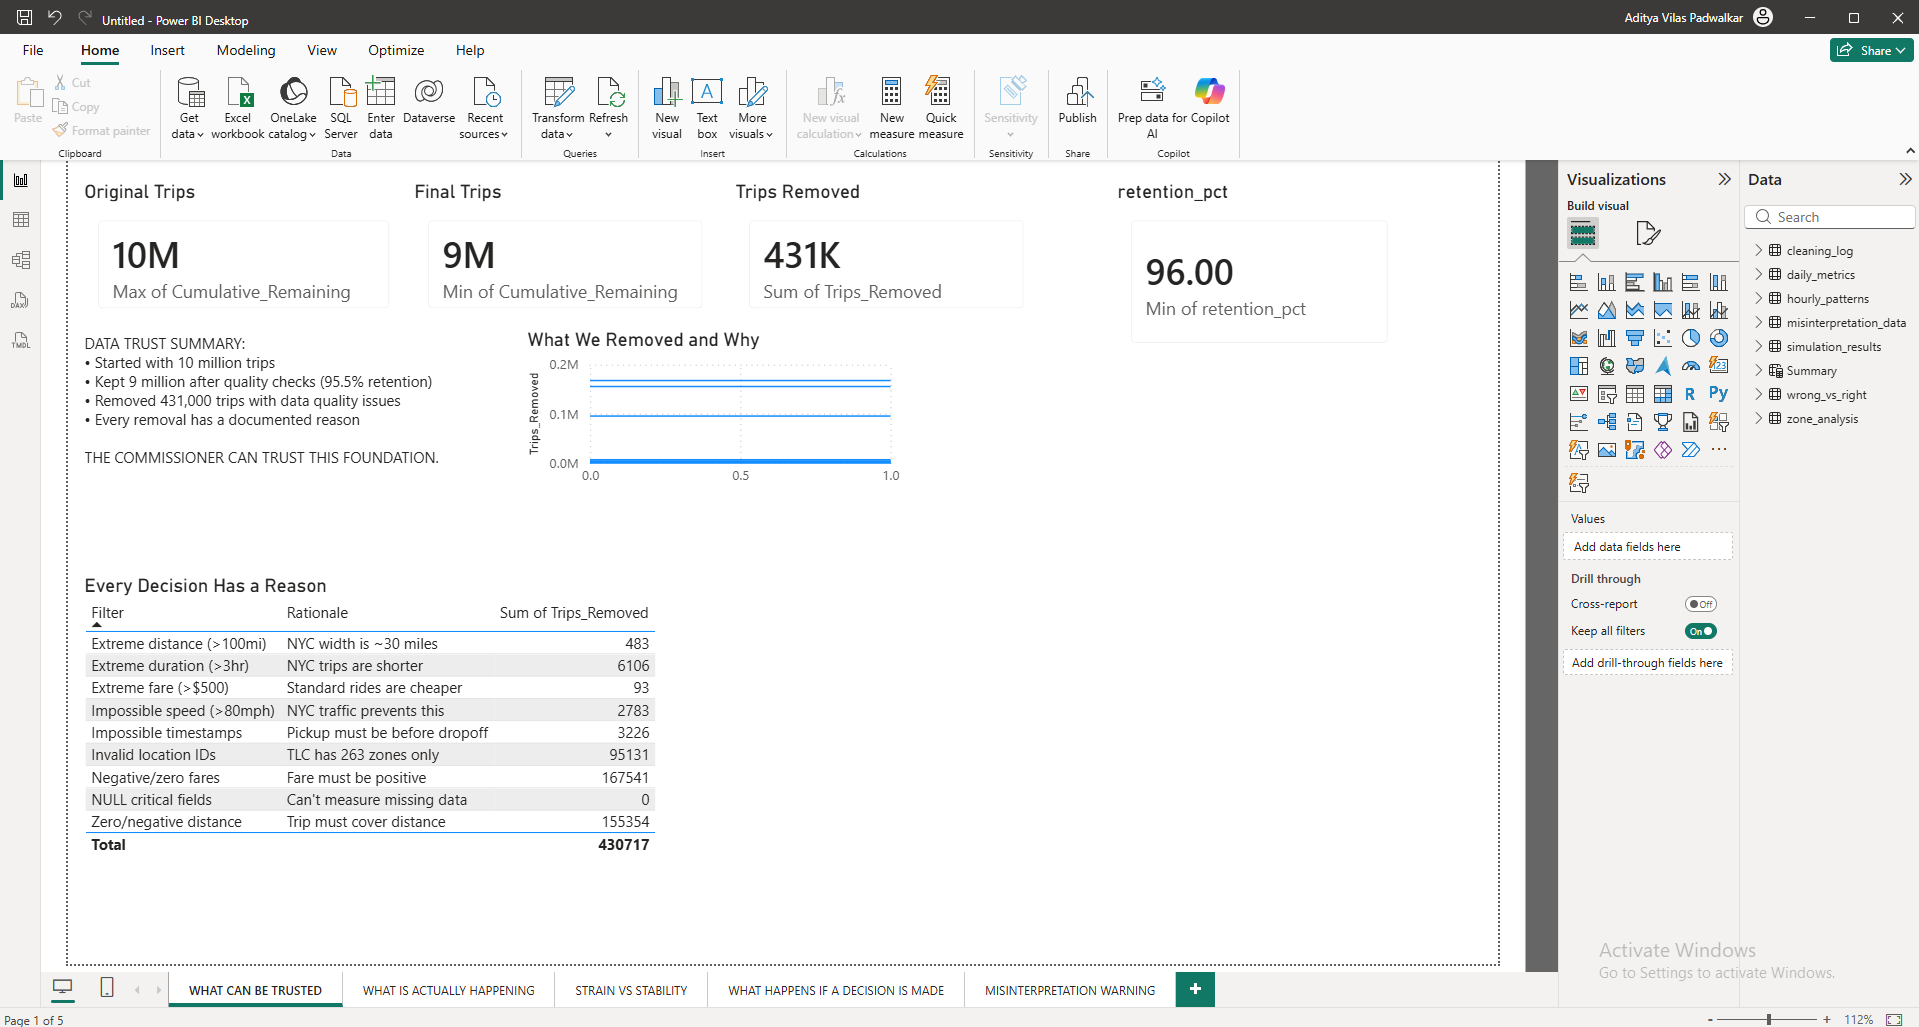

Layout of this report page (visuals, bound fields, positions):
{"tool":"powerbi","page":{"name":"WHAT CAN BE TRUSTED","canvas":[1280,720],"ordinal":0},"visuals":[{"type":"cardVisual","title":"Original Trips","fields":{"Data":["Max(cleaning_log.Cumulative_Remaining)"]},"box":[9.9,17.9,295.5,132.5],"z":0},{"type":"cardVisual","title":"Final Trips","fields":{"Data":["Min(cleaning_log.Cumulative_Remaining)"]},"box":[305.4,17.9,280.3,132.5],"z":2},{"type":"cardVisual","title":"Trips Removed","fields":{"Data":["Sum(cleaning_log.Trips_Removed)"]},"box":[592.8,17.9,280.3,132.5],"z":3},{"type":"textbox","box":[9.9,150.4,343,138.8],"z":4},{"type":"barChart","title":"What We Removed and Why","fields":{"Y":["CountNonNull(cleaning_log.Filter)"],"Category":["cleaning_log.Trips_Removed"]},"box":[406.6,150.4,343,150.4],"z":5},{"type":"tableEx","title":"Every Decision Has a Reason","fields":{"Values":["cleaning_log.Filter","cleaning_log.Rationale","Sum(cleaning_log.Trips_Removed)"]},"box":[9.9,370.7,541.8,260.6],"z":6},{"type":"cardVisual","title":"retention_pct","fields":{"Data":["Min(cleaning_log.retention_pct)"]},"box":[934.9,17.9,264.2,163.9],"z":7}]}

Visuals, with their boxes on the page's 1280x720 design canvas (x1, y1, x2, y2). These are canvas units, not pixel positions in the 1919x1027 screenshot, which may show the page scaled, cropped or inside an application window:
"Original Trips" cardVisual: select_region(10, 18, 305, 150)
"Final Trips" cardVisual: select_region(305, 18, 586, 150)
"Trips Removed" cardVisual: select_region(593, 18, 873, 150)
textbox: select_region(10, 150, 353, 289)
"What We Removed and Why" barChart: select_region(407, 150, 750, 301)
"Every Decision Has a Reason" tableEx: select_region(10, 371, 552, 631)
"retention_pct" cardVisual: select_region(935, 18, 1199, 182)
